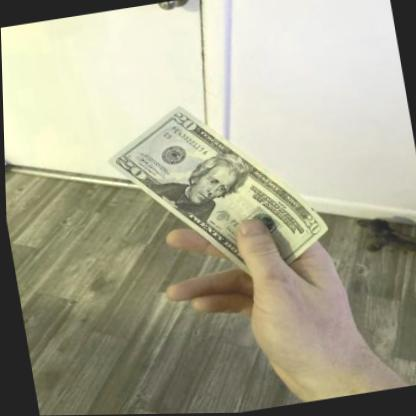twenty-front: (106, 105, 327, 288)
